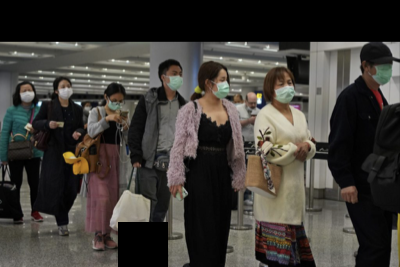mask_weared_incorrect: (247, 100, 258, 111)
with_mask: (273, 78, 295, 103), (369, 63, 393, 85), (211, 75, 229, 99), (164, 69, 183, 90), (57, 83, 72, 98), (18, 88, 34, 102), (107, 97, 124, 110), (84, 104, 92, 112)
